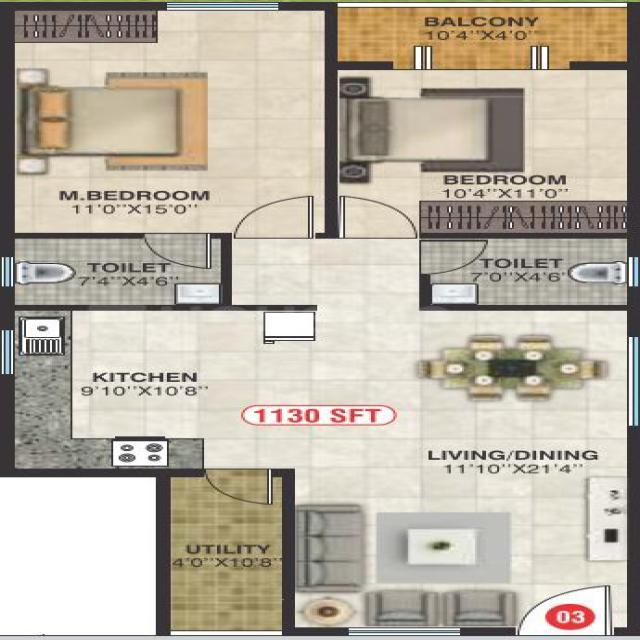Balcony-Sitout: (328, 3, 640, 71)
Bedroom: (328, 63, 640, 238)
Dining: (409, 333, 609, 405)
Kitchen: (2, 304, 318, 478)
Living: (278, 468, 636, 637)
Toilet: (0, 235, 237, 307), (419, 235, 638, 308)
Utility: (158, 467, 288, 638)
